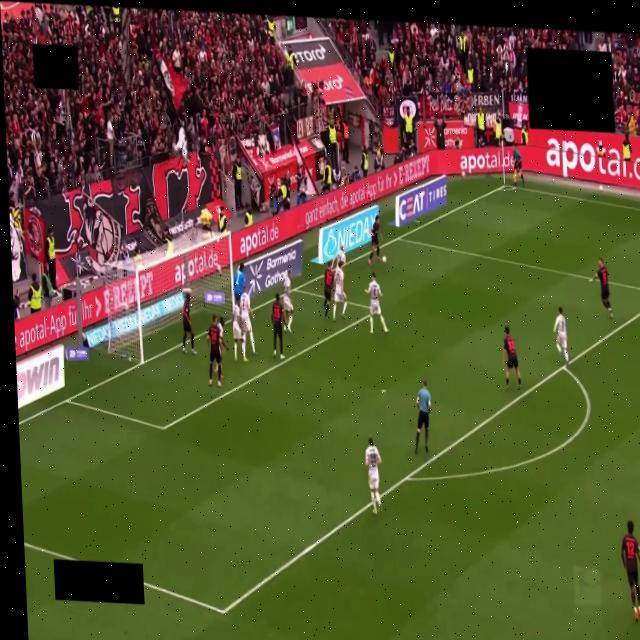ball: (383, 256, 386, 262)
player: (621, 520, 639, 621), (365, 273, 388, 333), (591, 259, 613, 318), (365, 436, 381, 513), (503, 327, 521, 390), (240, 285, 256, 355), (207, 315, 221, 387), (271, 294, 286, 359), (232, 302, 248, 362), (554, 307, 569, 366), (182, 293, 195, 353), (333, 266, 347, 321), (283, 270, 293, 333), (369, 216, 381, 265), (324, 262, 334, 319), (234, 264, 245, 300), (217, 317, 227, 353), (333, 245, 346, 265)
referee: (415, 380, 431, 454)
